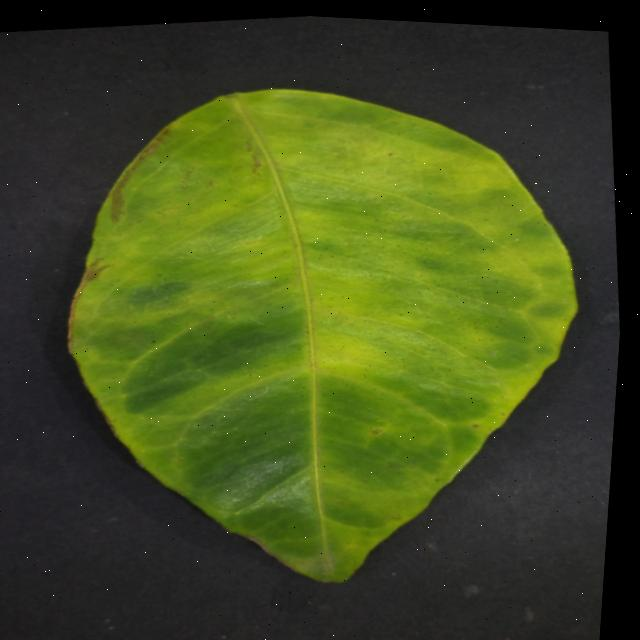greening: (68, 89, 574, 582)
